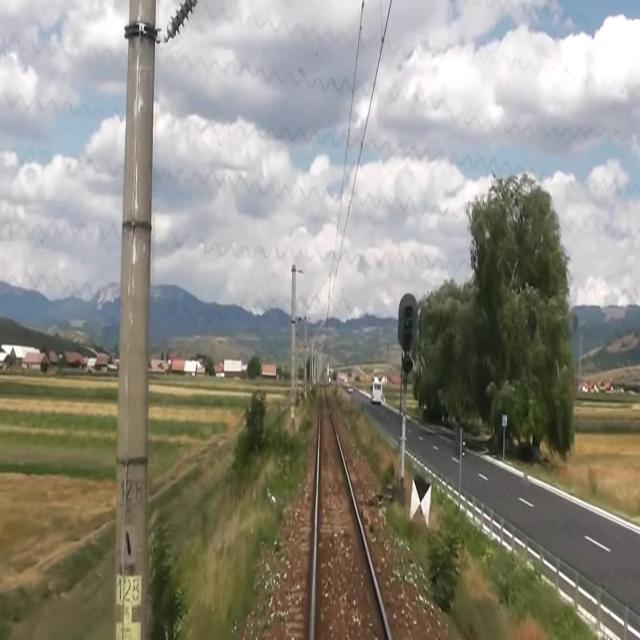rail-track: (315, 391, 386, 639)
